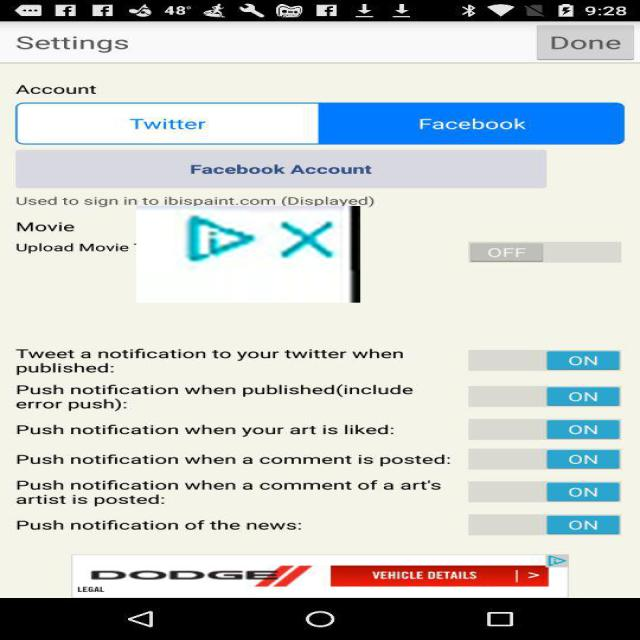sneaking: (137, 206, 360, 303)
